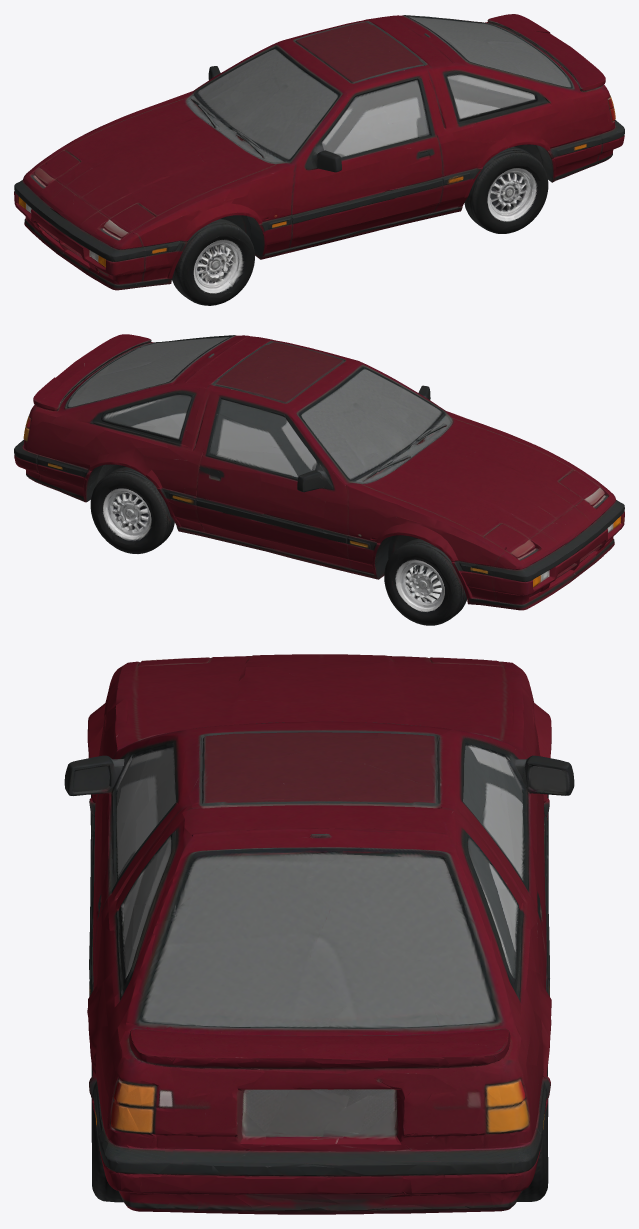
Rendered from coupe.glb.
3 views of the same model, one above another, from view 1: azimuth 30°, elevation 25°; view 2: azimuth 150°, elevation 25°; view 3: azimuth 270°, elevation 25° (orthographic). The views are drawn at different scales.
Parts seen in each view (by area): view 1: Mesh_0; view 2: Mesh_0; view 3: Mesh_0.
Boxes of the visible parts, x1,y1,x2,y2 form: Mesh_0: (14,14,624,305); Mesh_0: (14,334,624,625); Mesh_0: (64,654,574,1214).
Bounding box in the file's own units: 1.9 × 0.5833 × 0.8026.
Materials: 1 (1 with a texture image).
